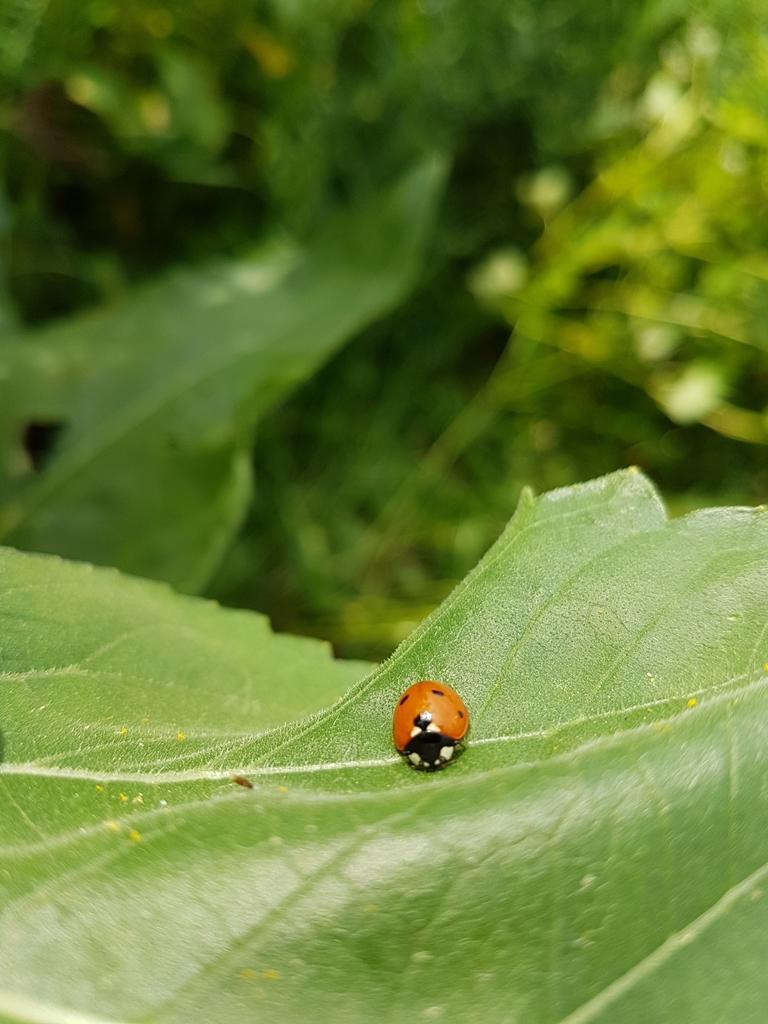ladybug: (392, 681, 472, 775)
